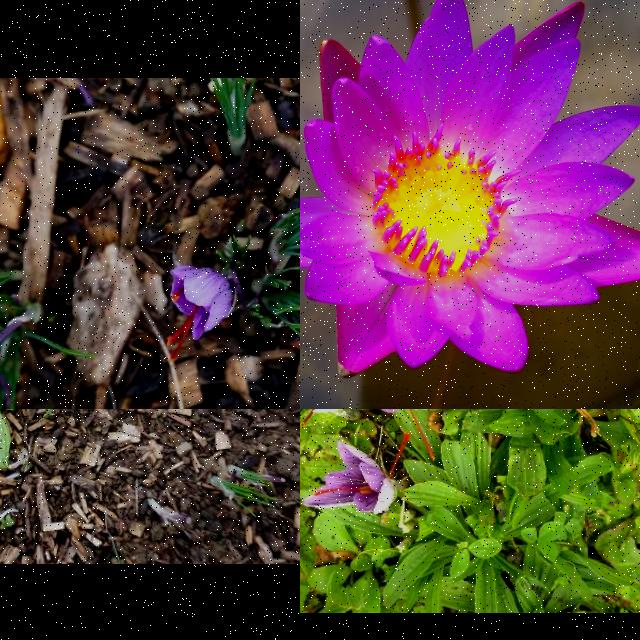flower: (304, 435, 411, 515), (167, 265, 235, 361), (325, 409, 444, 460)
